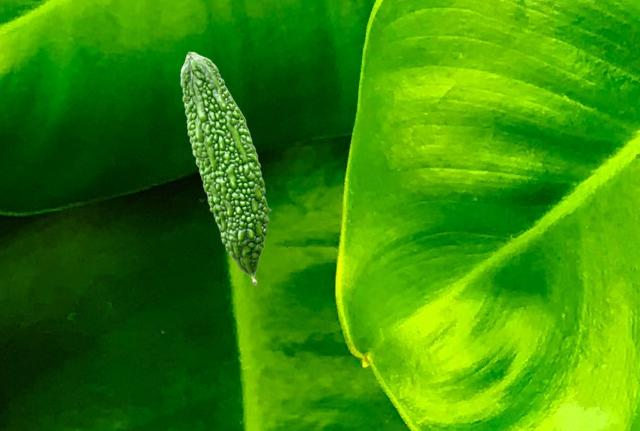ampalaya: (178, 51, 272, 286)
